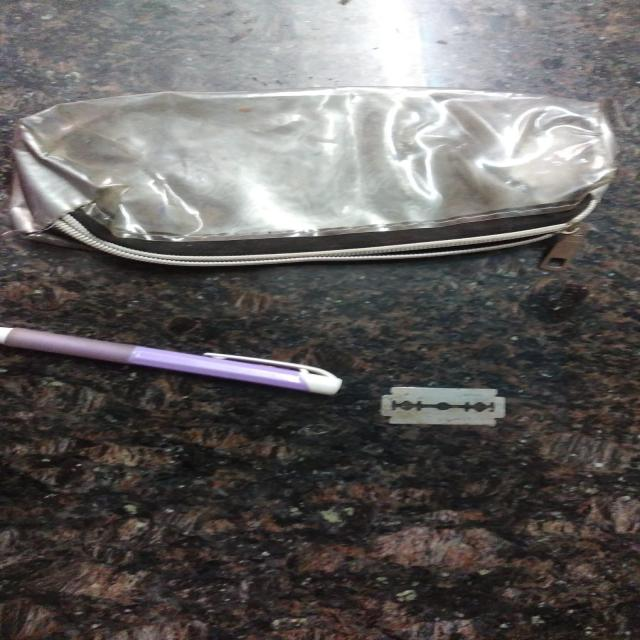dry: (15, 83, 640, 270), (0, 312, 348, 420), (378, 381, 541, 439)
